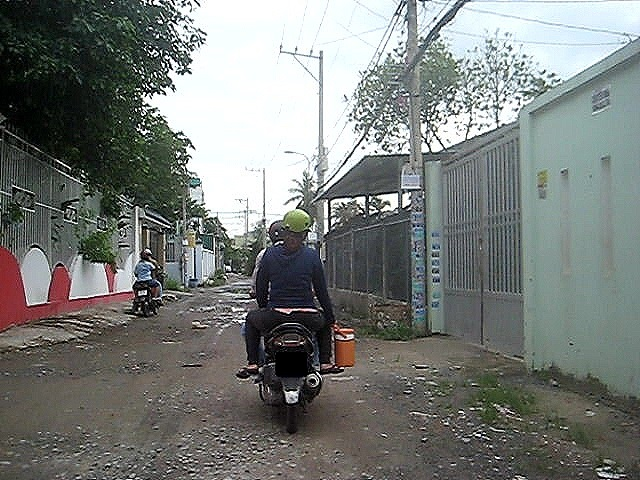hole: (117, 358, 162, 376), (186, 304, 246, 314), (192, 318, 245, 326), (190, 348, 218, 361), (158, 334, 182, 344)
